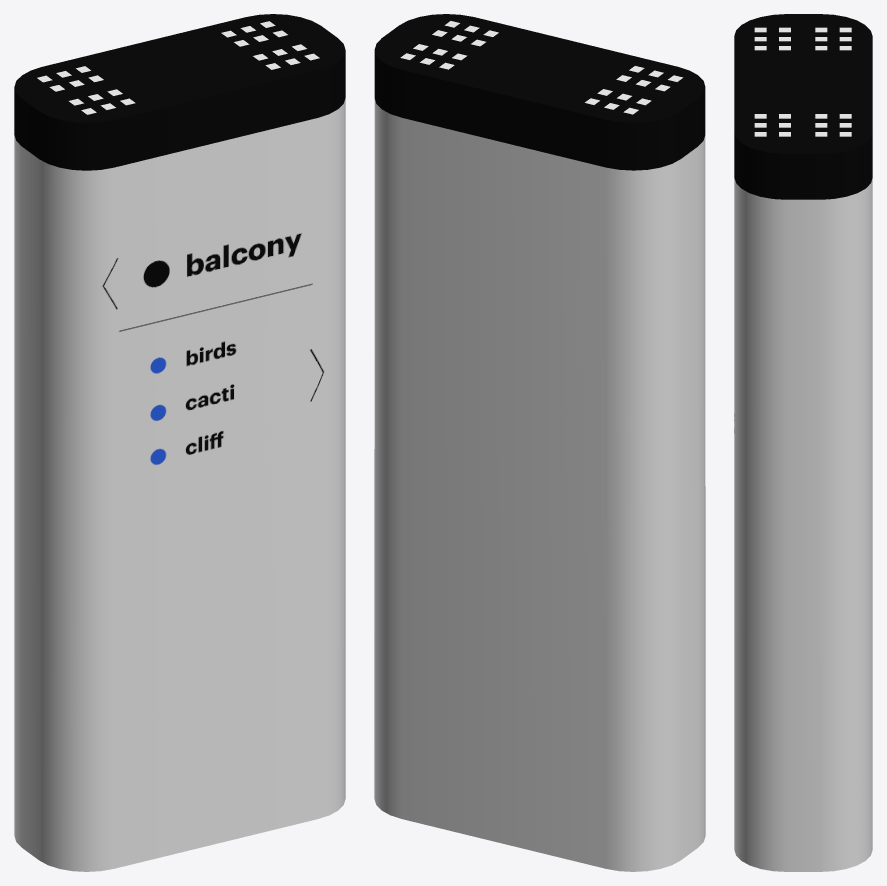
File: Sign-Area-1.fbx
3 views of the same model, side by side, from view 1: azimuth 30°, elevation 25°; view 2: azimuth 150°, elevation 25°; view 3: azimuth 270°, elevation 25° (orthographic). The views are drawn at different scales.
Parts seen in each view (by area): view 1: Sign-Area-1; view 2: Sign-Area-1; view 3: Sign-Area-1.
Part boxes in pixels (x1=…): Sign-Area-1: x1=14, y1=14, x2=345, y2=871; Sign-Area-1: x1=374, y1=14, x2=705, y2=871; Sign-Area-1: x1=734, y1=14, x2=872, y2=871.
Bounding box in the file's own units: 102 × 244 × 42.62.
1 material, 1 textured.
